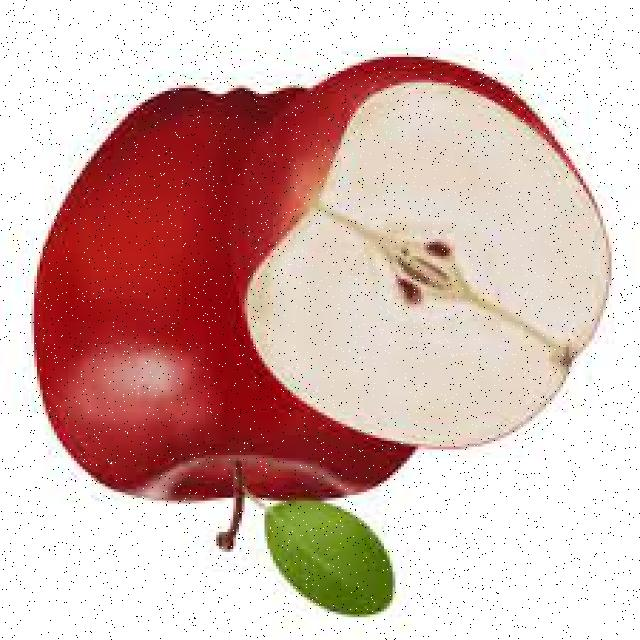Apple: (29, 89, 407, 504), (231, 59, 614, 450)
